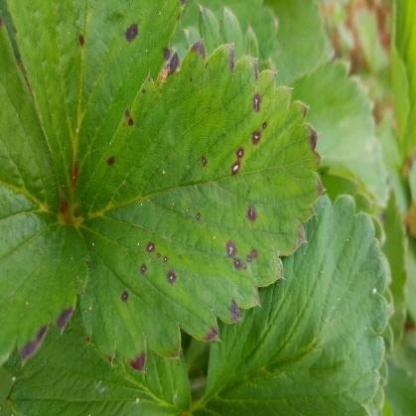Strawberry_Leaf_Spot: (70, 37, 326, 374), (4, 0, 188, 210)
